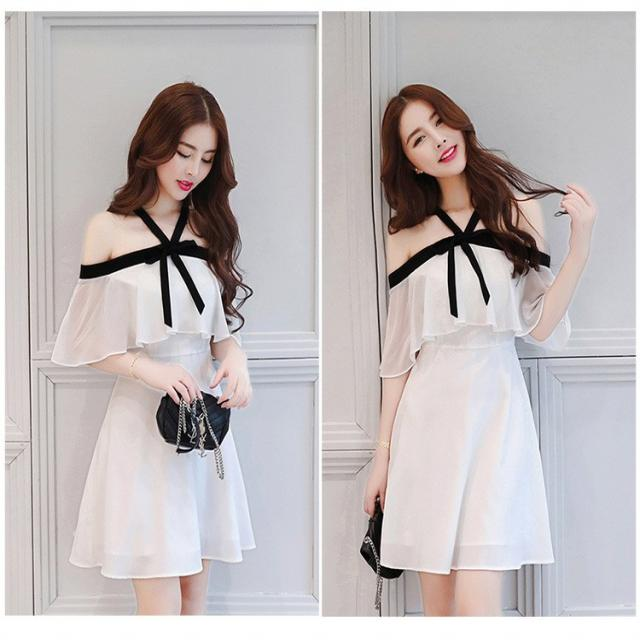clothes: (57, 201, 258, 584), (381, 206, 556, 579)
